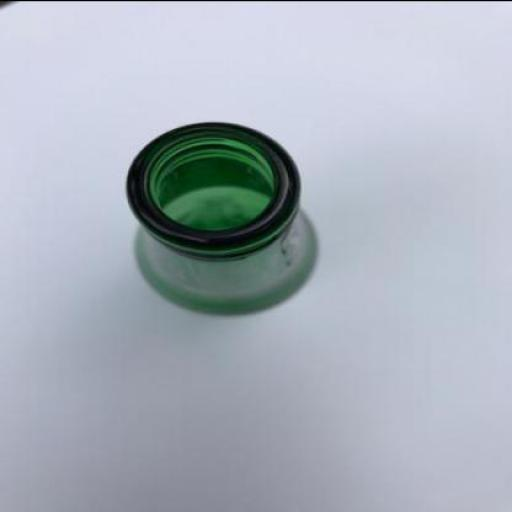glass: (126, 120, 316, 312)
